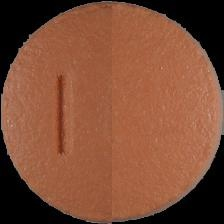60760-009: (0, 0, 224, 224)
